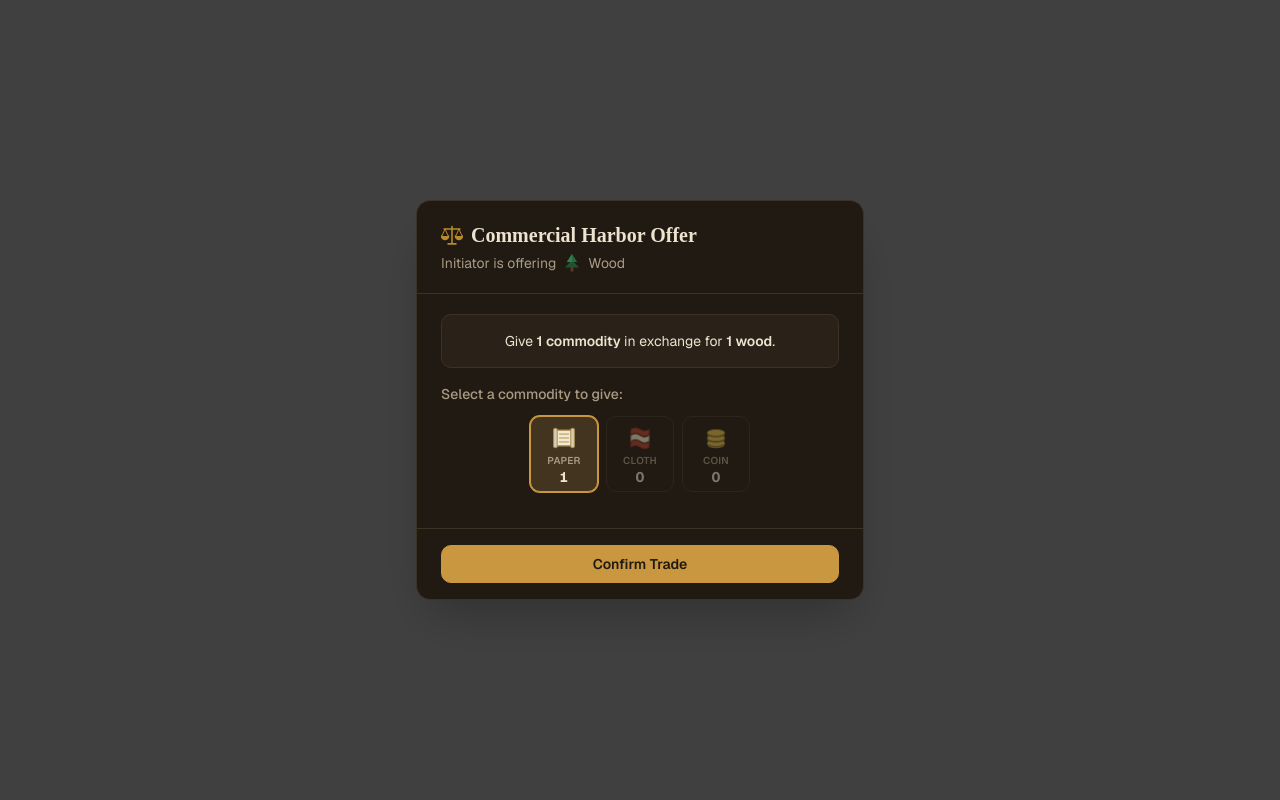
Scenario: Commercial Harbor dialog error handling › uses a safe fallback when a response rejects a non-Error
Click the button "Confirm Trade" at (640, 564), box [441,545,839,583]
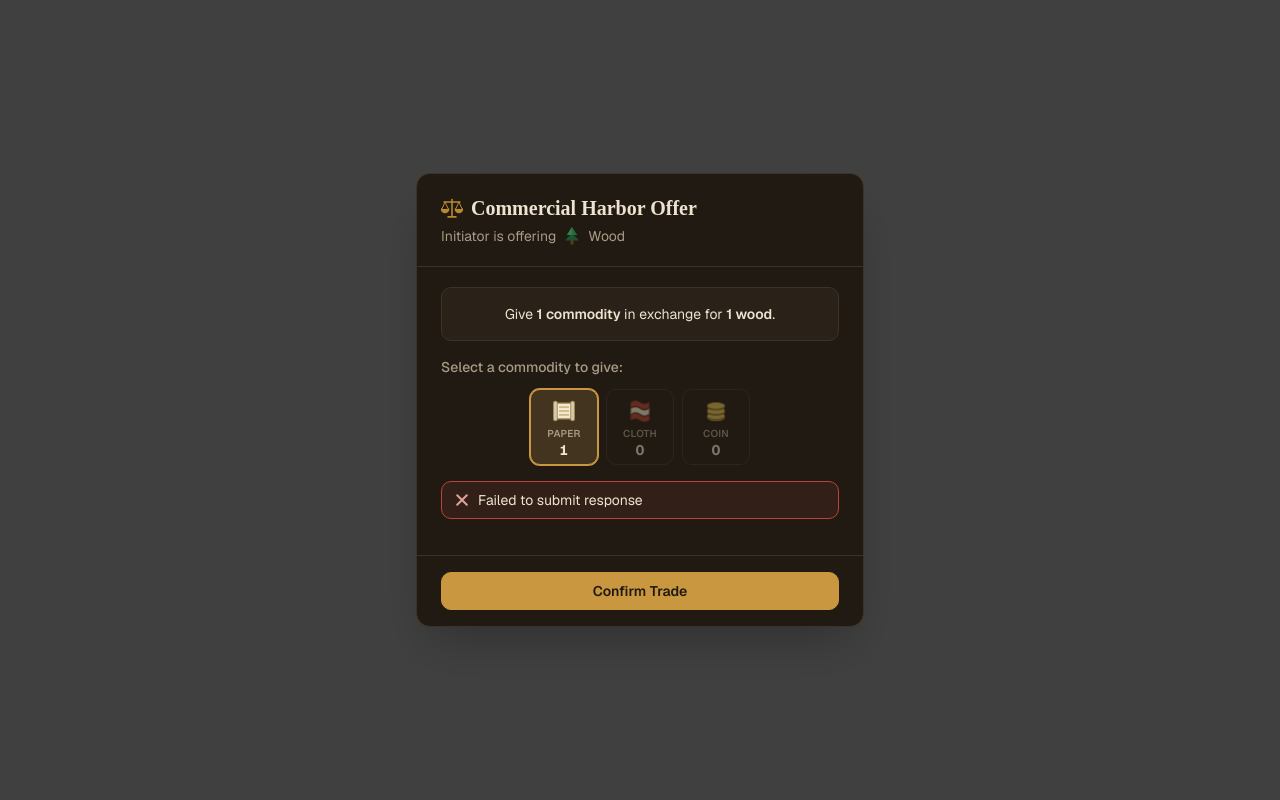
Now the message reads "Failed to submit response", box [478,491,643,509]
